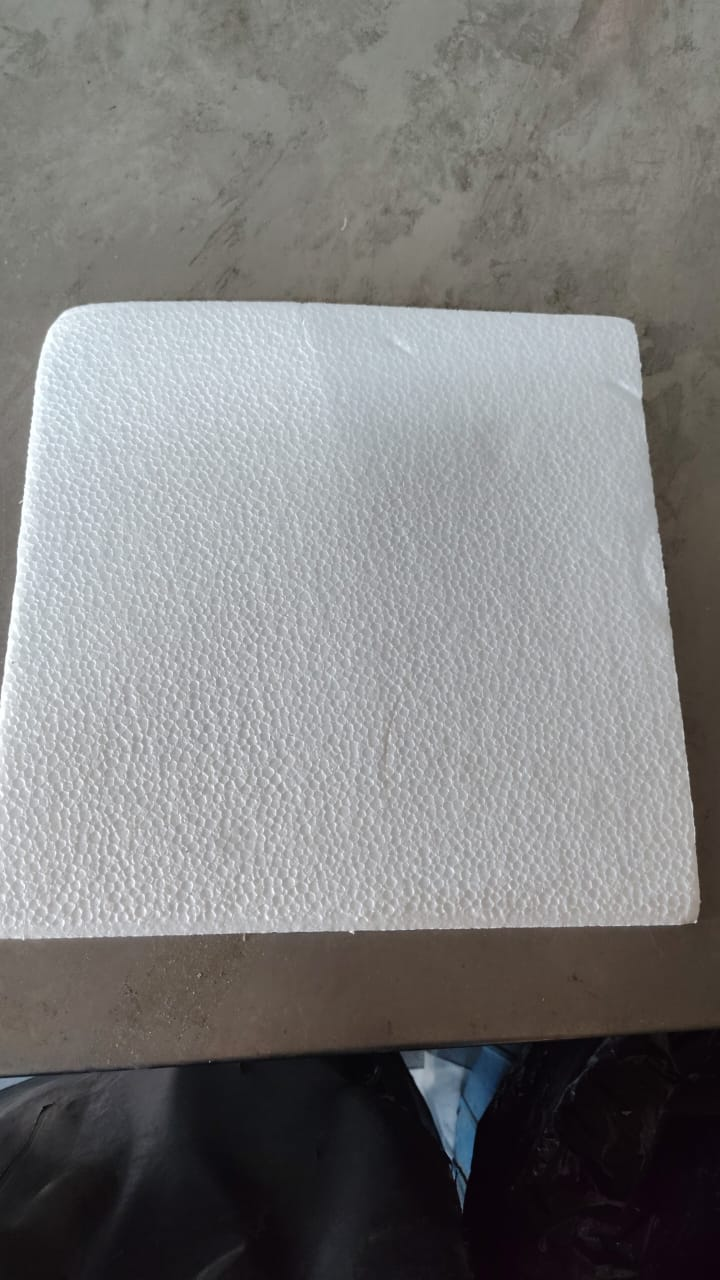Ordinario: (0, 300, 705, 946)
